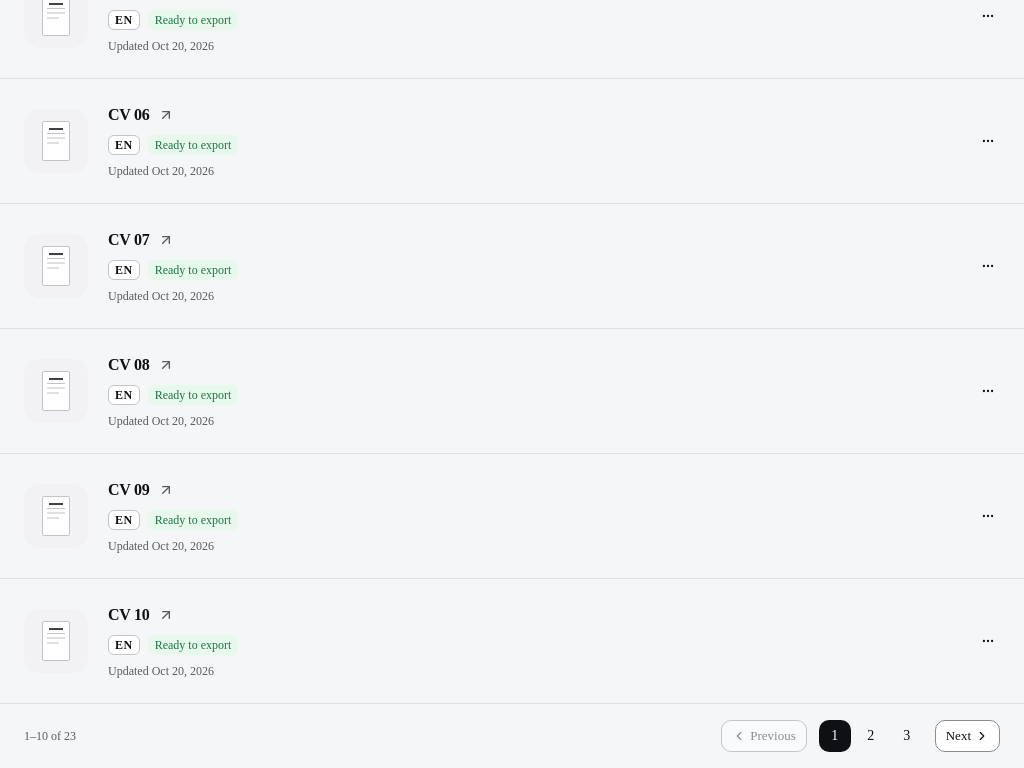
Scenario: CV library pages › shows ten CVs per page and keeps the page in the address bar
The image size is (1024, 768).
(page scrolled)
Expected: the text "1–10 of 23" is shown, [24,728,76,744]
Expected: the button with aria-label "Previous page" is disabled, [721,720,807,752]
Click the button with aria-label "Next page". click: (967, 736)
box: [935,720,1000,752]
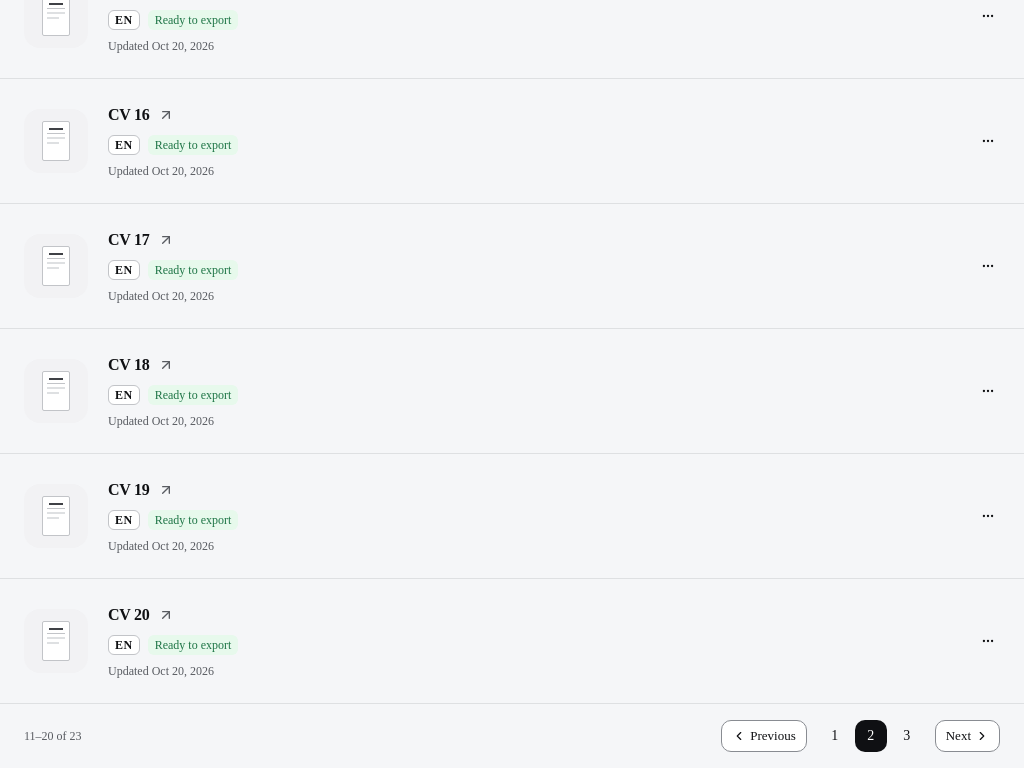
Now the text "11–20 of 23" is shown, box [24,728,82,744]
Click the button named "Page 3". click: (907, 736)
box: [891,720,923,752]
(page scrolled)
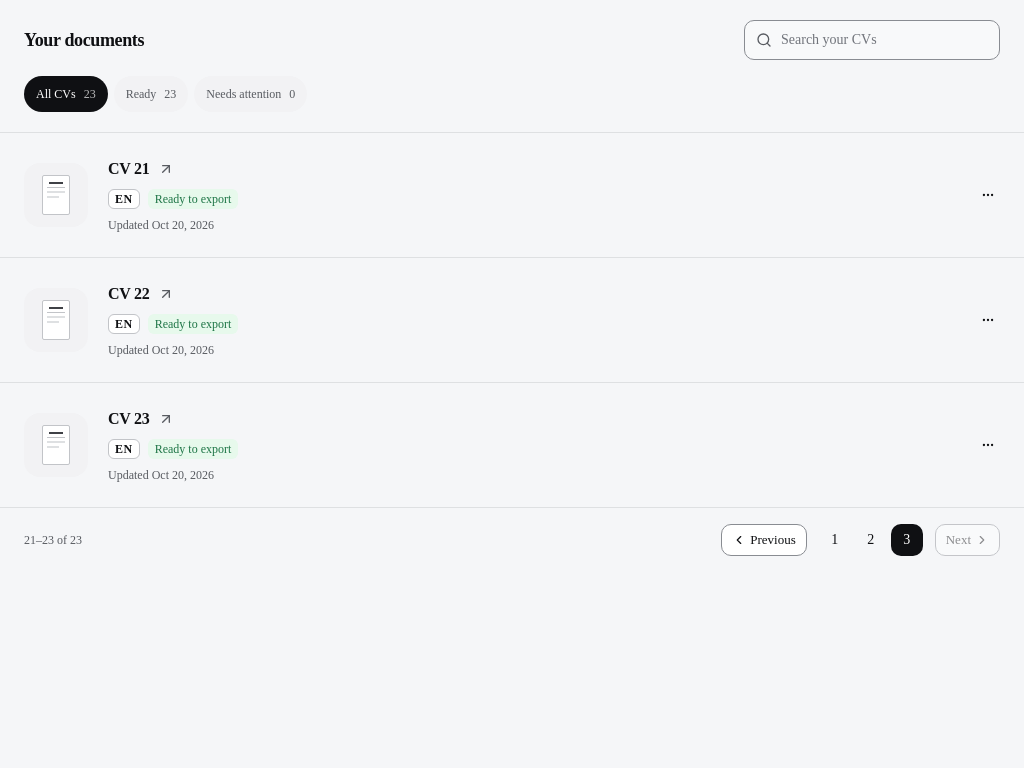
Now the text "21–23 of 23" is shown, box [24,532,82,548]
// A new search or filter starts again from its first page.
Type "CV 2" into the search field labelled "Search your CVs". click: (872, 40)
box: [744,20,1000,60]
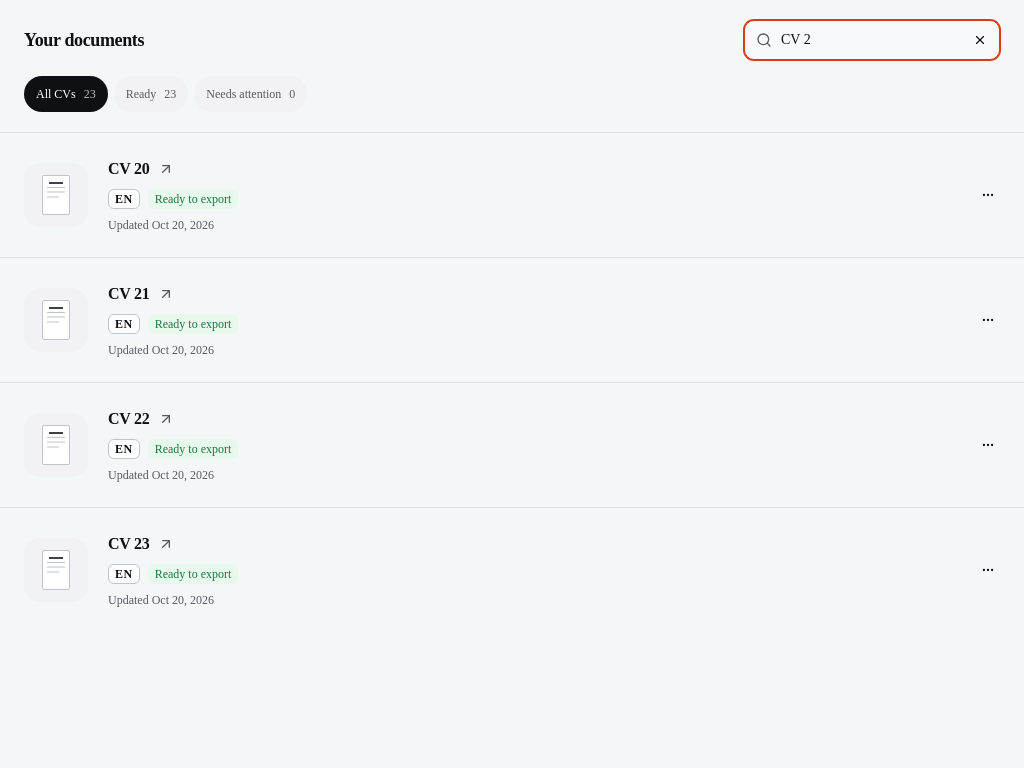
Replace the text in the search field named "Search your CVs" with "nothing like it". click: (872, 40)
box: [744,20,1000,60]
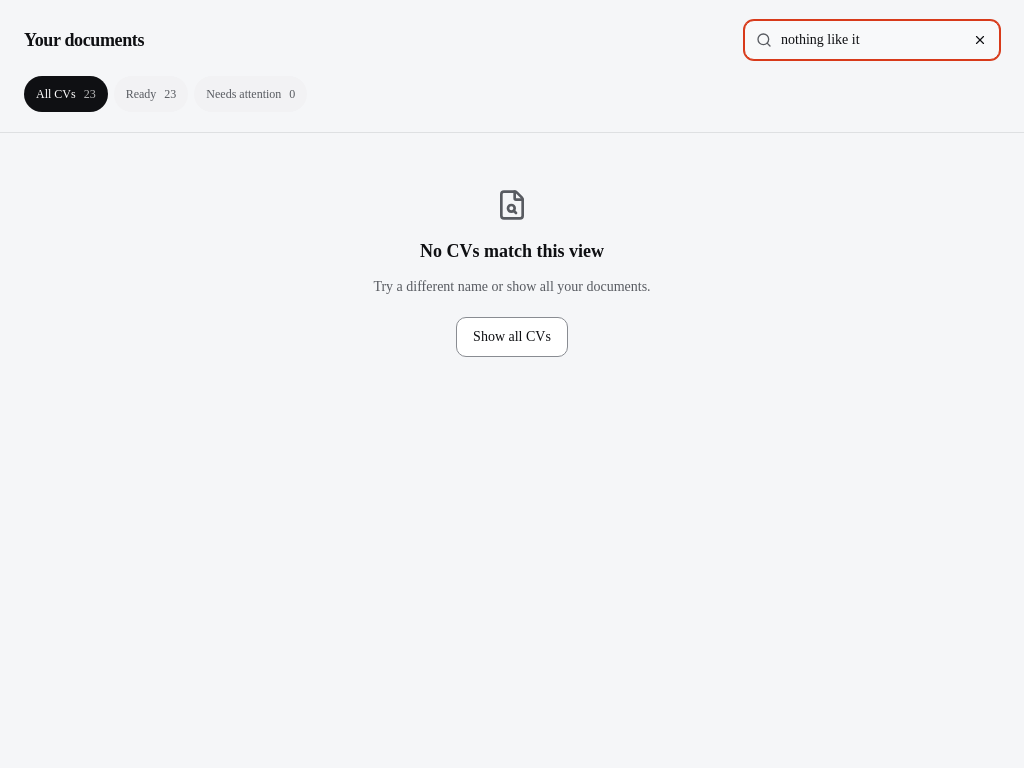
Click the button "Show all CVs". click: (512, 337)
box: [456,317,568,357]
(page scrolled)
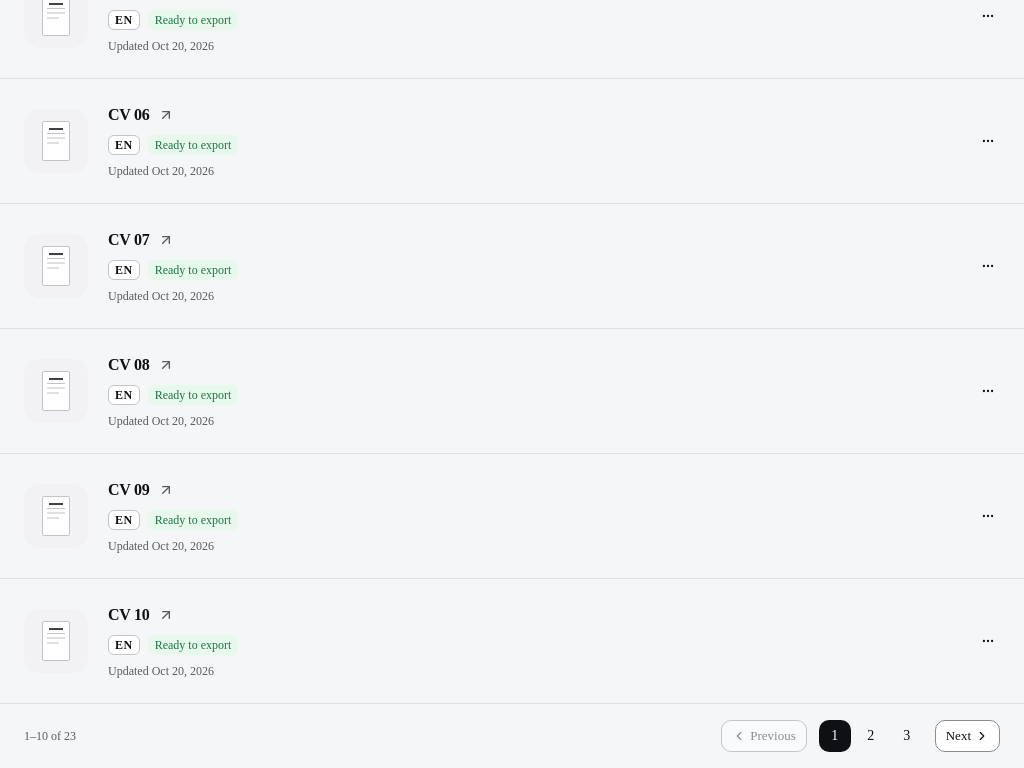
Now the text "1–10 of 23" is shown, box [24,728,76,744]
